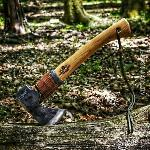Kapak: (10, 16, 138, 132)
